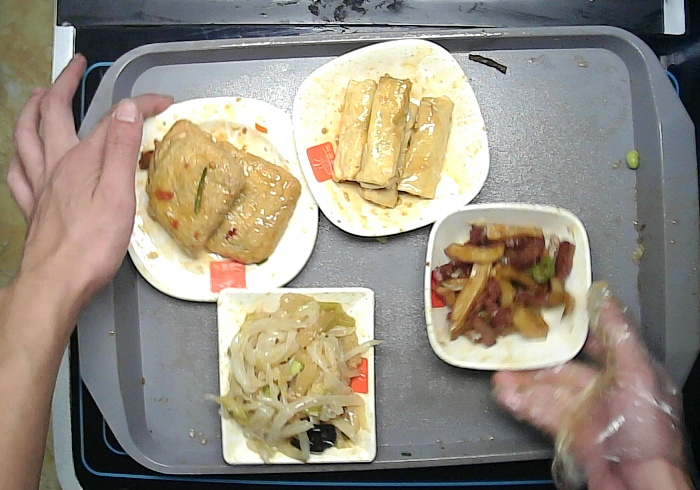SHKJ-Bai_Se_Cai_Die: (291, 39, 488, 235)
SHKJ-Bai_Se_Si_Fang_Cai_Die: (118, 96, 318, 300)
SHKJ-Bai_Se_Xiao_Fang_Die: (424, 203, 592, 369)
SHKJ-Si_Fang_Min: (217, 287, 379, 464)
